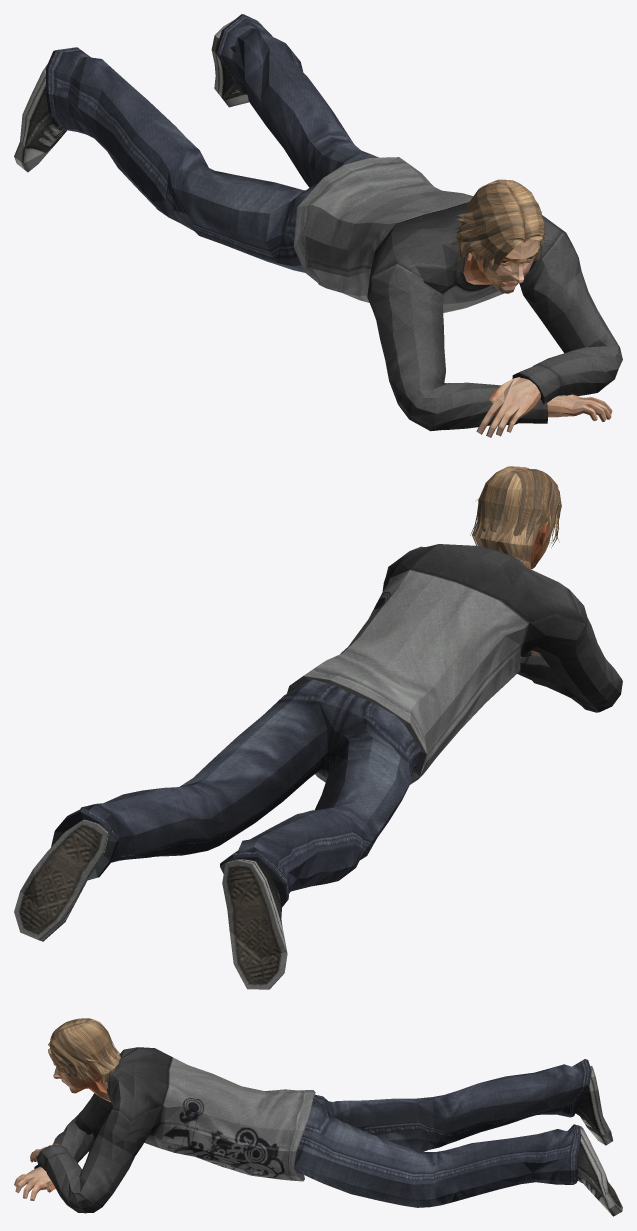
The model's file is sweethome3d-reallusion-lying-down-male-13.glb.
3 views of the same model, one above another, from view 1: azimuth 30°, elevation 25°; view 2: azimuth 150°, elevation 25°; view 3: azimuth 270°, elevation 25° (orthographic). The views are drawn at different scales.
Parts seen in each view (by area): view 1: Object01; view 2: Object01; view 3: Object01.
Part boxes in pixels (left/top/right/bottom): Object01: left=14, top=14, right=622, bottom=437; Object01: left=14, top=466, right=622, bottom=989; Object01: left=14, top=1018, right=622, bottom=1216.
Size of the model in its own units: 67.12 by 56.7 by 194.
Materials: 4 (3 with a texture image).
